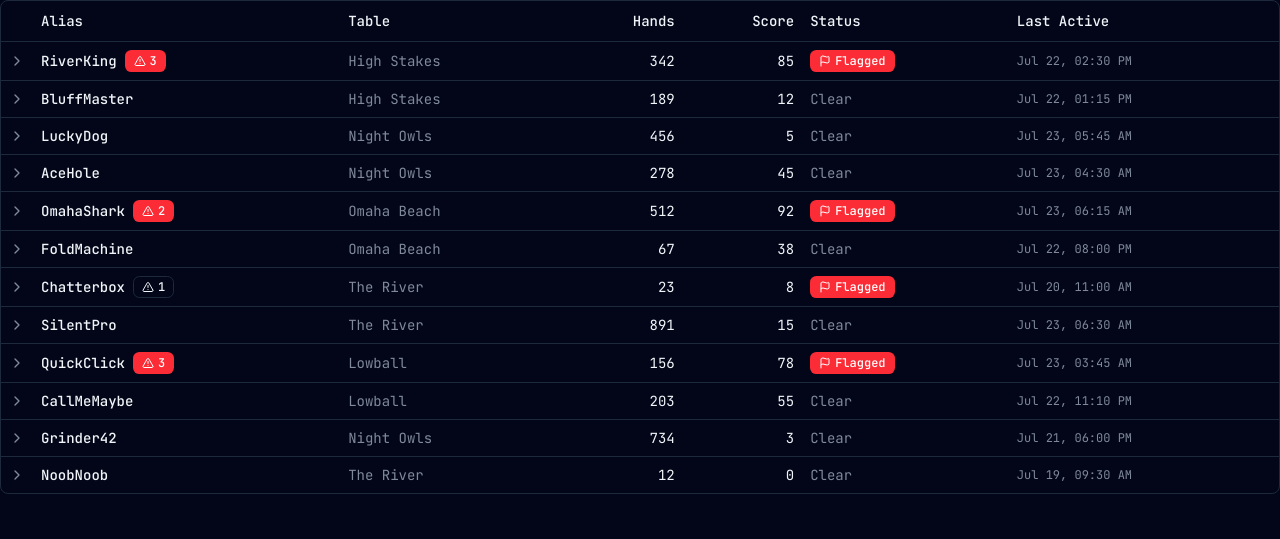
Test: PlayersDirectory expanded row › expands row on click revealing actions
# Click on handsPlayed cell to expand (alias is now a Link)
Click the text "189" at [662, 98], box [563,80,683,117]
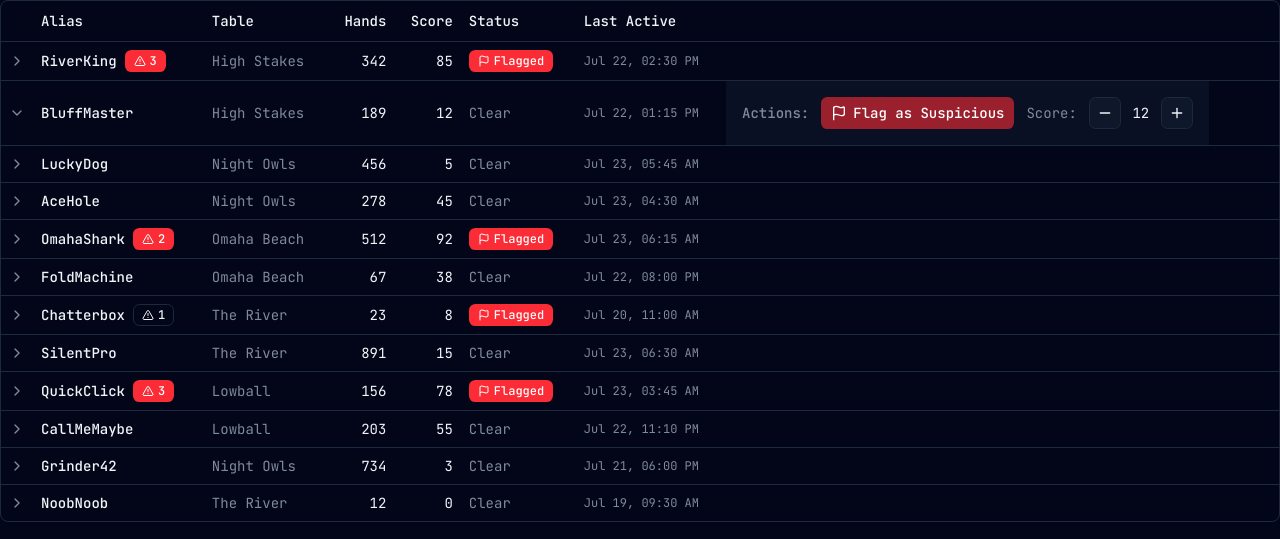
Result: the button "Flag as Suspicious" is shown at [821,96,1014,128]
